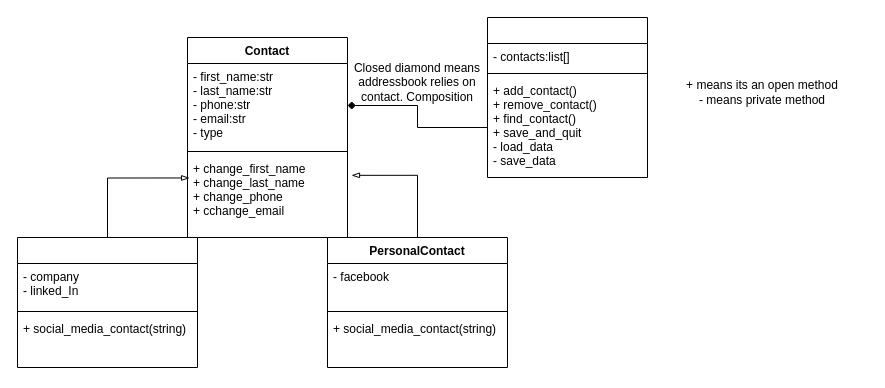
Some shapes in this 885 by 388 pixel diagram are drawn without their labels. Each missing label, with the box of its shape:
AddressBook: (486, 16, 648, 178)
ProfessionalContact: (16, 236, 198, 368)
